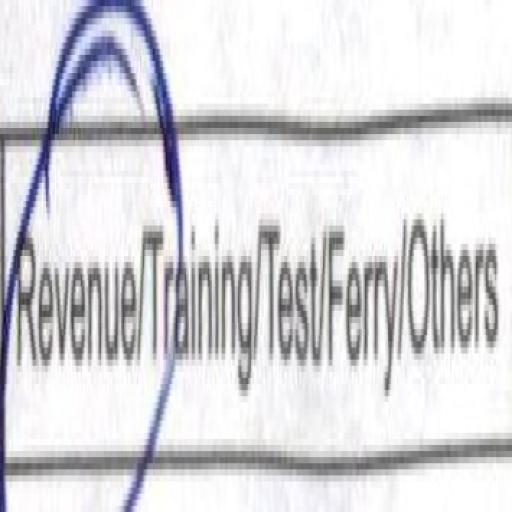check: (3, 0, 145, 512)
